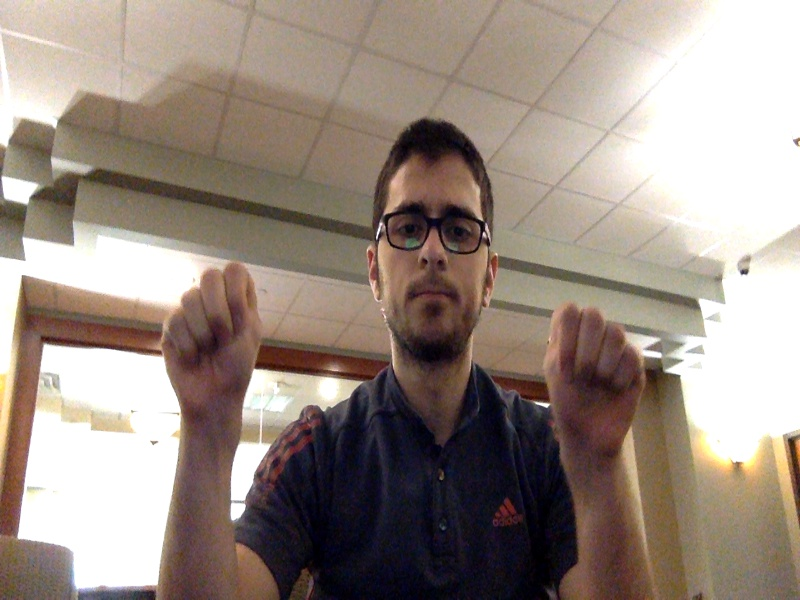0-hand: (162, 265, 262, 417), (547, 305, 642, 463)
